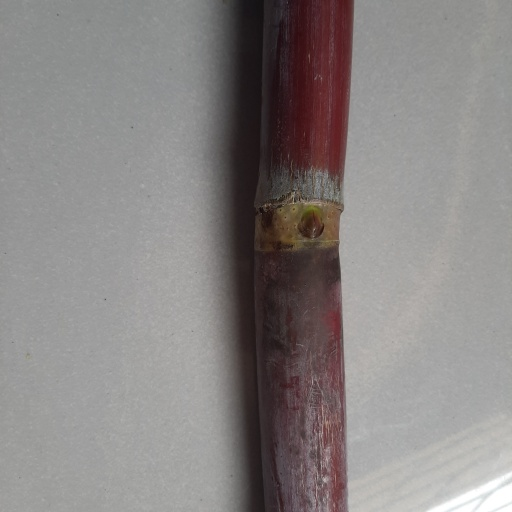Bud: (297, 208, 324, 239)
